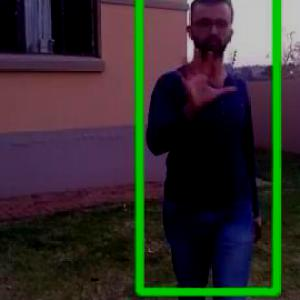follow_hand: (171, 44, 237, 109)
